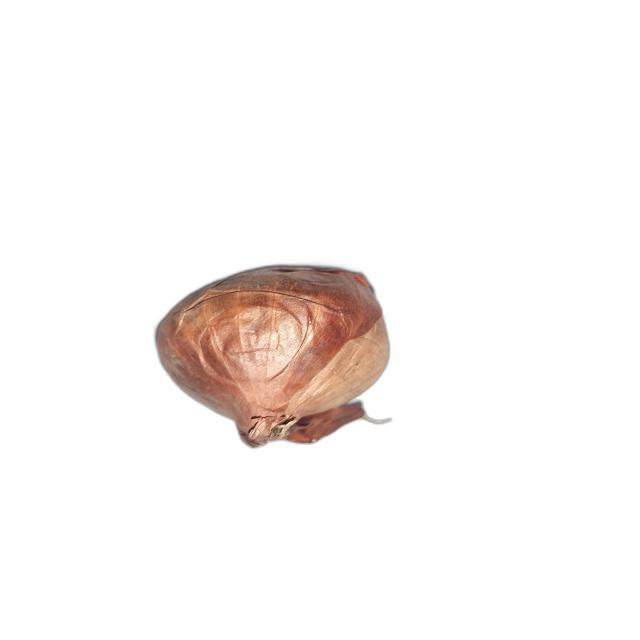onion: (154, 262, 394, 448)
